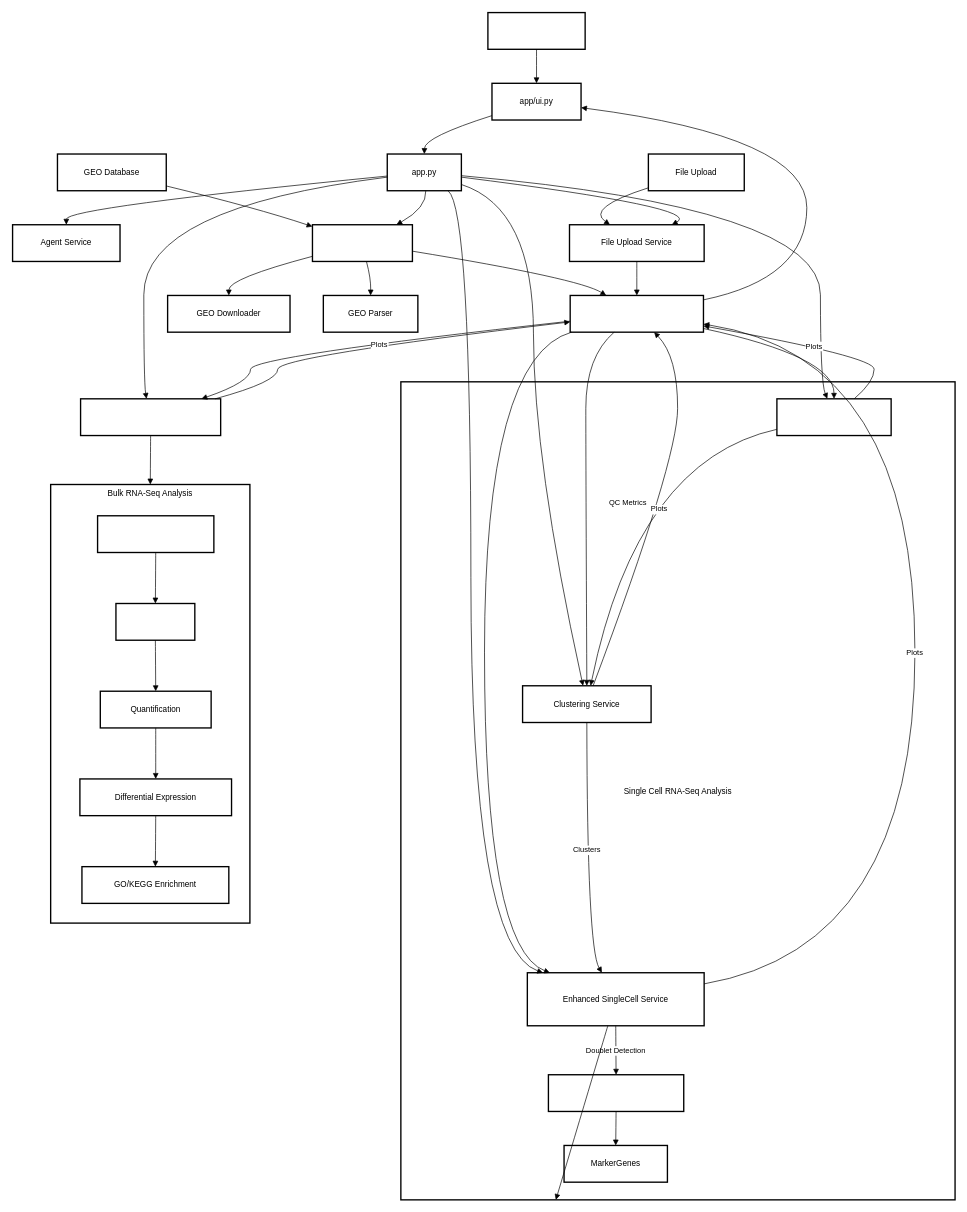
Some shapes in this 967 by 1212 pixel diagram are drawn without their labels. The shapes that lost their labels are listed below. From the top down, each one's centre as x and y in pixels, then its label:
the point at 536,31: User/Client
the point at 362,243: GEO Service
the point at 636,313: Core Data Manager
the point at 150,417: Bulk RNASeq Service
the point at 833,417: Quality Service
the point at 155,534: FastQC Analysis
the point at 155,621: MultiQC
the point at 615,1093: CellTypeAnnotation
